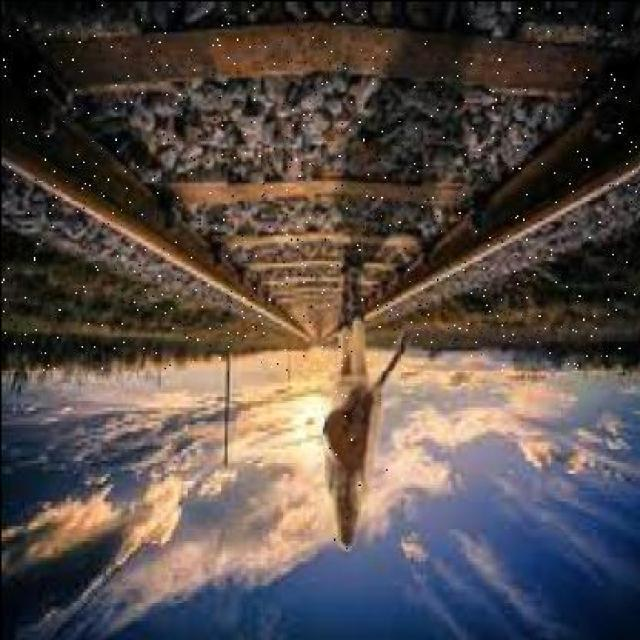rail: (1, 4, 638, 369)
